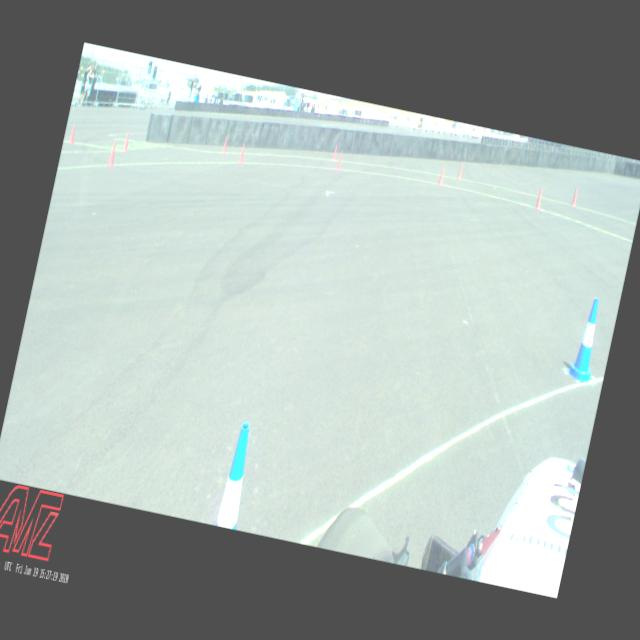blue_cone: (215, 420, 258, 530), (564, 296, 609, 384)
unknown_cone: (106, 140, 118, 166), (534, 187, 544, 210), (68, 124, 78, 144), (570, 186, 580, 206), (122, 132, 131, 152), (437, 166, 446, 186), (238, 142, 246, 164), (336, 150, 344, 170), (221, 135, 229, 153), (456, 162, 464, 179), (332, 144, 338, 160)
